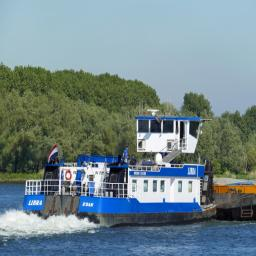tugboat: (23, 108, 219, 235)
